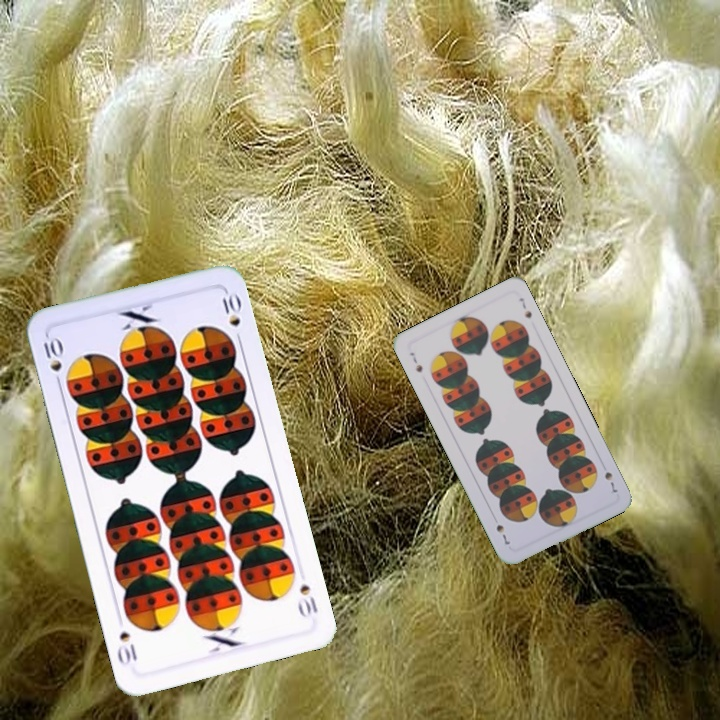S10: (39, 332, 65, 391), (294, 580, 320, 620)
S7: (600, 467, 621, 495), (406, 348, 425, 375)
